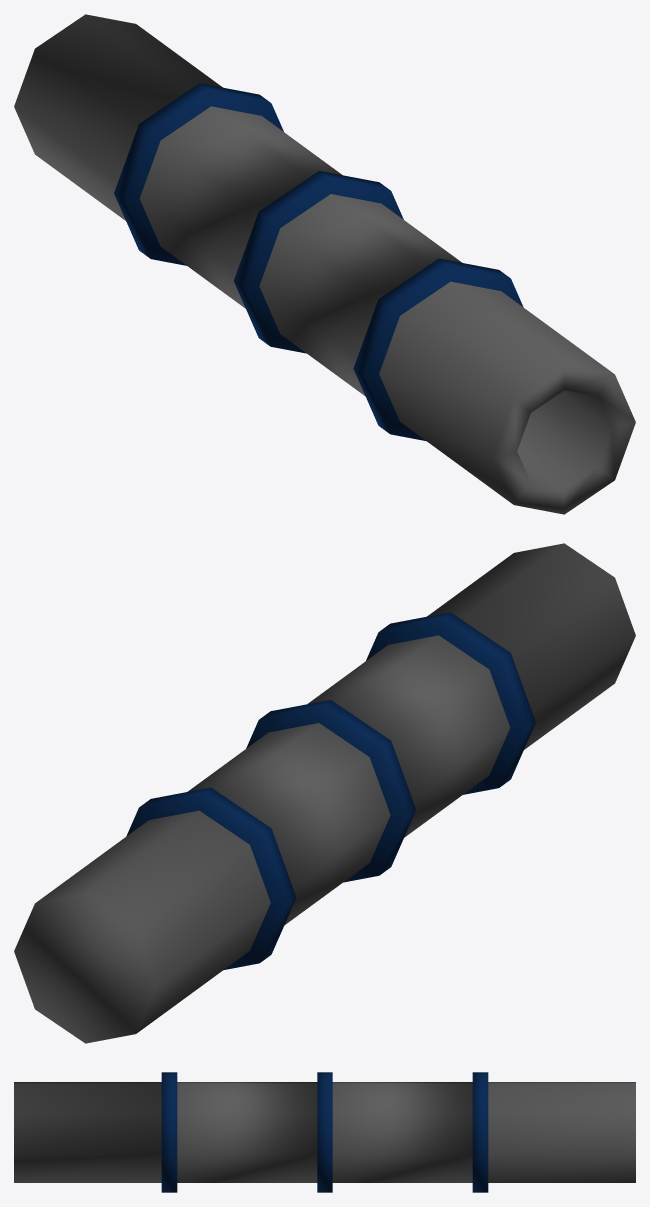
Rendered from NATO Heavy Machine Gun.obj.
The picture shows the model from 3 angles, top to bottom: view 1: azimuth 30°, elevation 25°; view 2: azimuth 150°, elevation 25°; view 3: azimuth 270°, elevation 25°; orthographic projection. The views are drawn at different scales.
Parts seen in each view (by area): view 1: NATO_Heavy_Machine_Gun_Cylinder.001; view 2: NATO_Heavy_Machine_Gun_Cylinder.001; view 3: NATO_Heavy_Machine_Gun_Cylinder.001.
Boxes of the visible parts, x1,y1,x2,y2 form: NATO_Heavy_Machine_Gun_Cylinder.001: (14, 14, 635, 514); NATO_Heavy_Machine_Gun_Cylinder.001: (14, 543, 635, 1043); NATO_Heavy_Machine_Gun_Cylinder.001: (14, 1072, 635, 1192).
Bounding box in the file's own units: 0.3325 × 0.3325 × 1.61.
